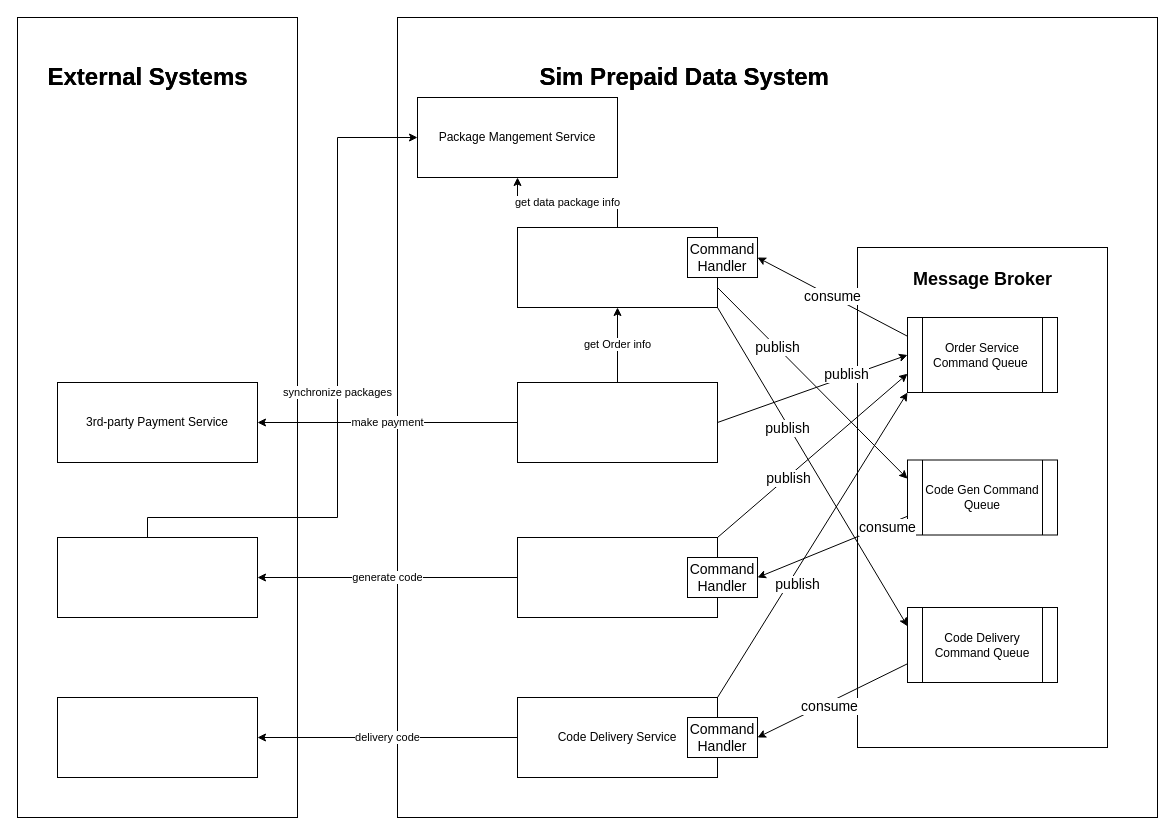
Image size: 1175x835. Some labels were removed from this diagram. The shapes that lost their labels are listed below. From the top down, each one's centre as x and y in pixels, then its label:
pixel 617 267: Order Service
pixel 617 422: Payment
pixel 157 577: 3rd-party SIm Card Data Service
pixel 617 577: Code Gen Service
pixel 157 737: 3rd-party SMS Service
